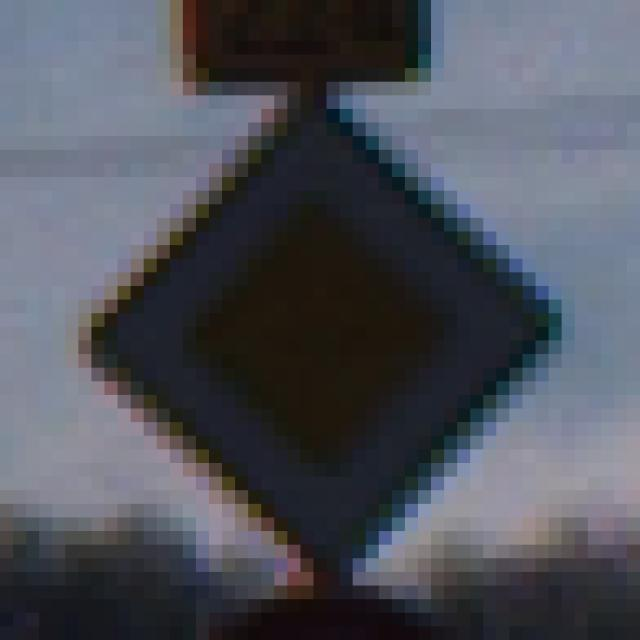Main Road: (66, 69, 576, 573)
